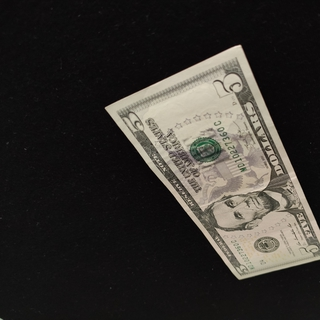5USDFront: (103, 44, 320, 282)
